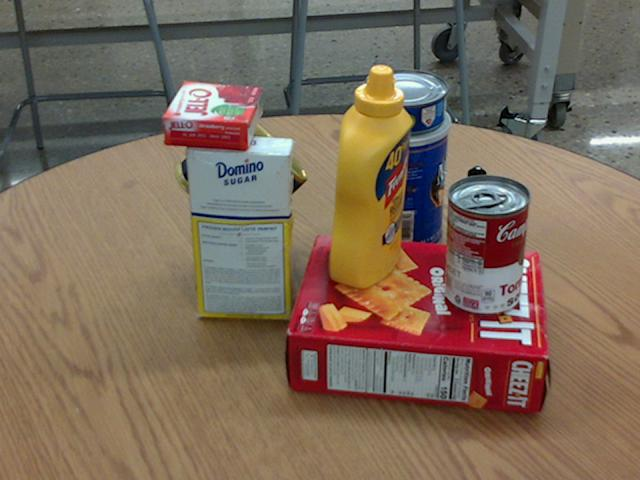cracker_box: (288, 233, 546, 412)
gelatin_box: (162, 81, 262, 148)
large_marker: (458, 166, 485, 276)
master_chef_can: (349, 96, 453, 259)
mug: (195, 174, 289, 284)
mustard_bottle: (328, 64, 412, 288)
potted_meat_can: (175, 109, 308, 238)
sugar_box: (184, 133, 294, 321)
tomato_soup_can: (445, 173, 531, 314)
tuna_fish_can: (363, 69, 448, 133)
